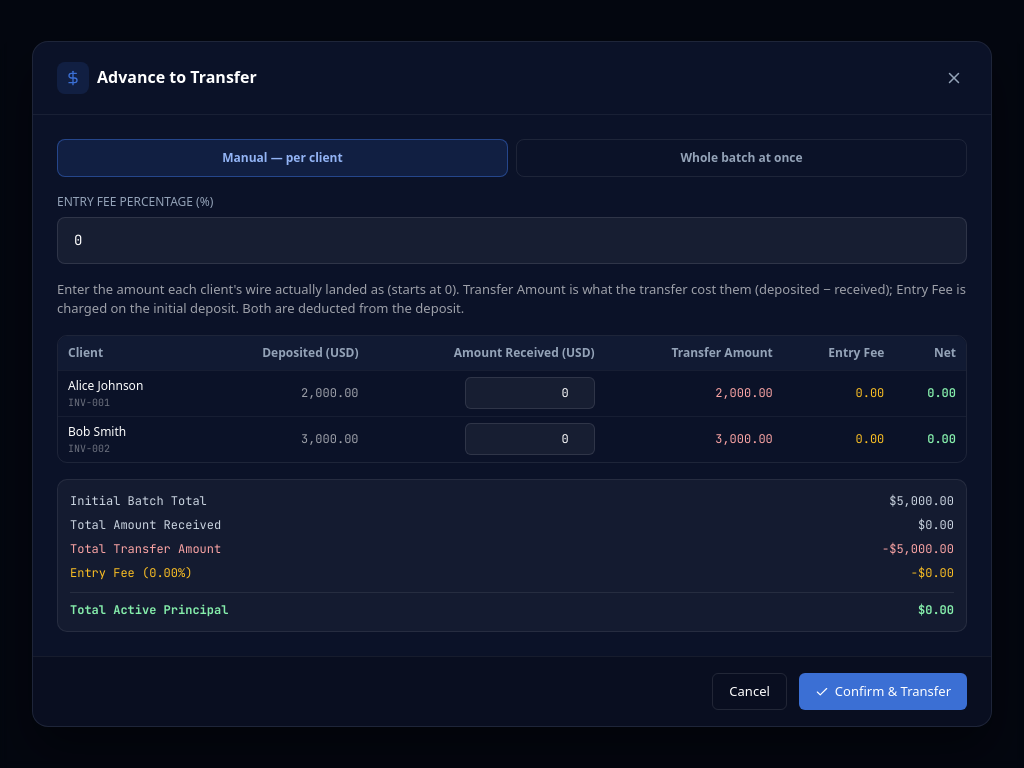
Test case: TransferCostModal — whole batch at once (aggregate mode) › switches to the aggregate view and hides the per-client table
Click the button "Whole batch at once" at (742, 158), box top-left (516, 139), bottom-right (967, 177)
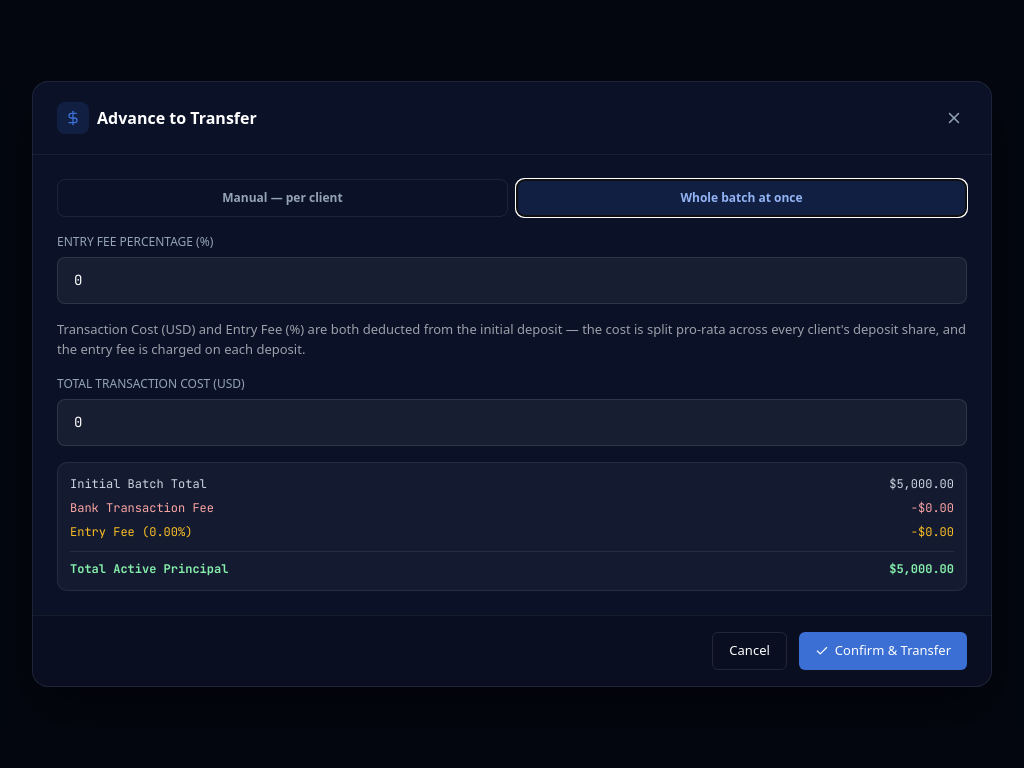
Now the text "Alice Johnson" is gone
Now the text "TOTAL TRANSACTION COST (USD)" is shown, box top-left (57, 375), bottom-right (245, 392)
